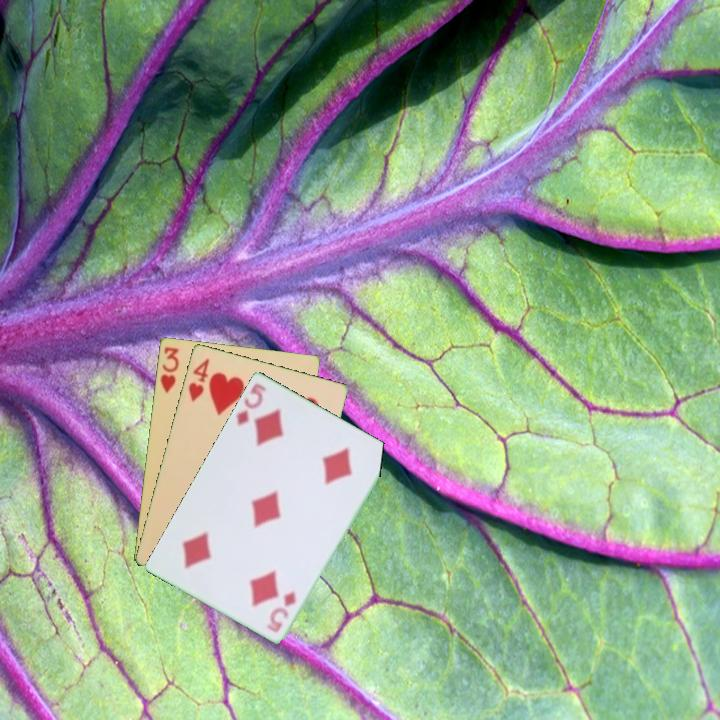3h: (156, 343, 182, 395)
4h: (185, 354, 212, 405)
5d: (232, 379, 269, 428), (264, 587, 299, 635)
